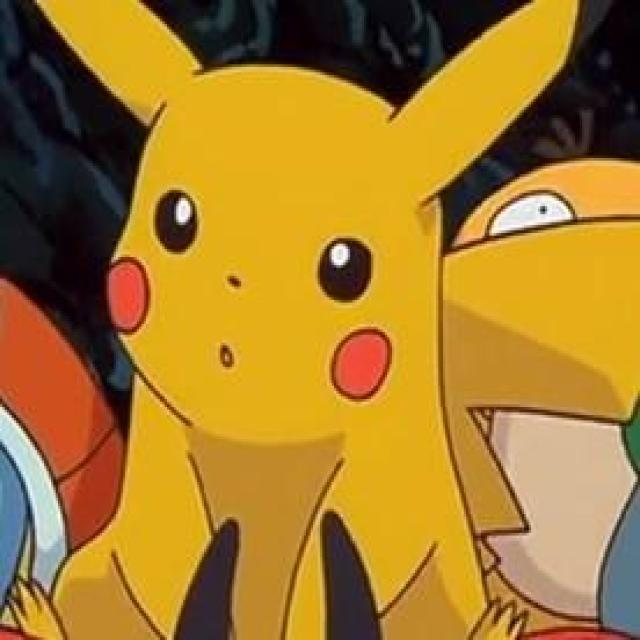pikachu: (11, 0, 640, 637)
